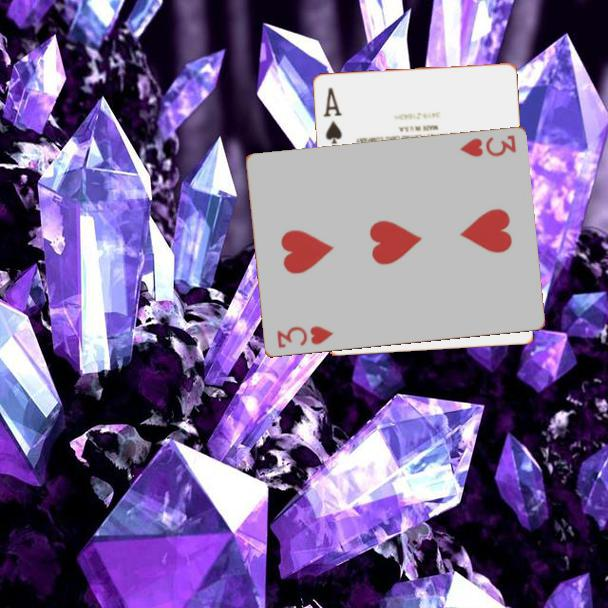h03: (273, 323, 336, 351), (456, 132, 519, 160)
s01: (320, 84, 345, 147)
